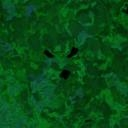alloviz: (58, 67, 72, 80), (65, 46, 79, 59), (42, 47, 56, 59)
